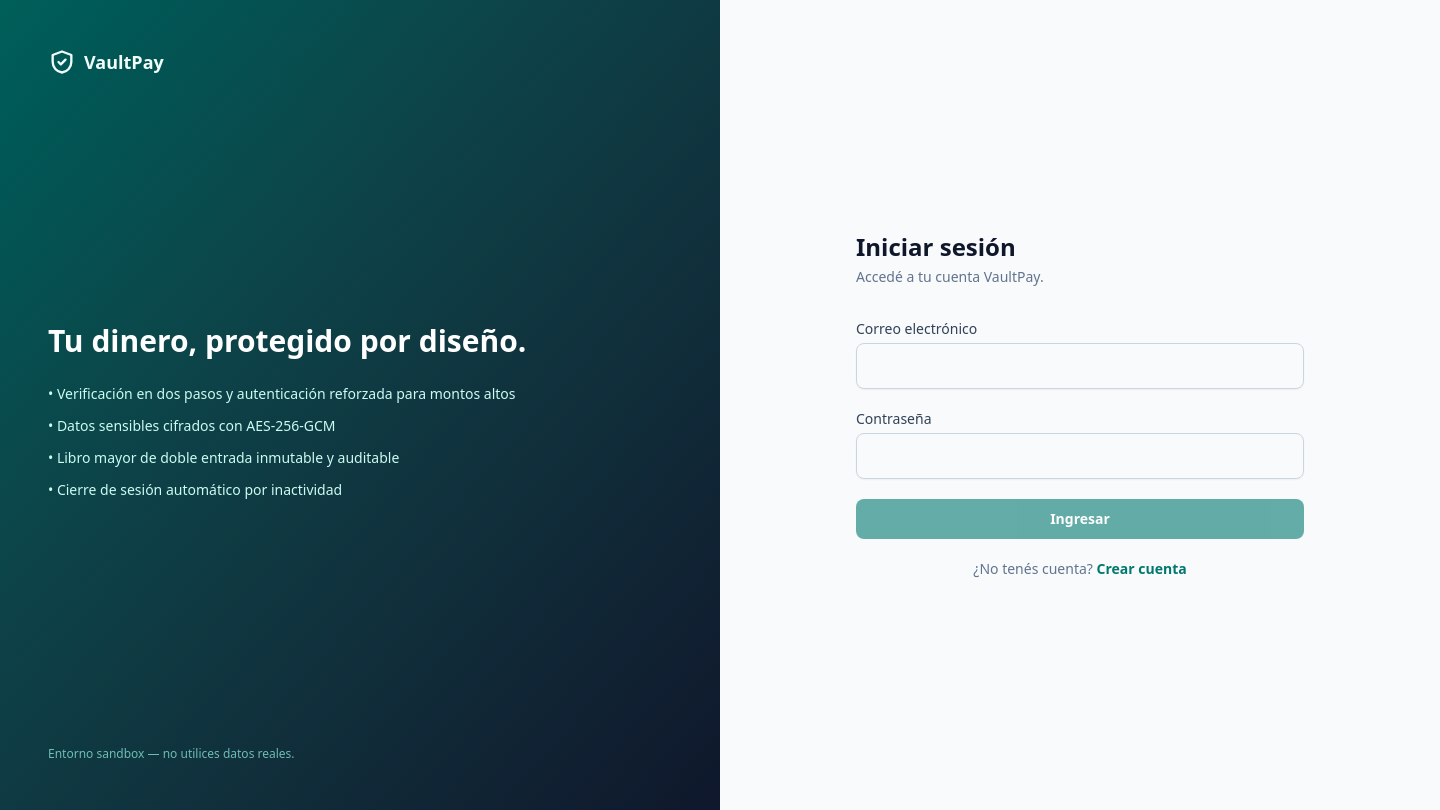
Test case: login flow › shows one generic message for bad credentials
Type "x@y.co" into the field labelled "Correo electrónico" at (1080, 366), box [856,343,1304,389]
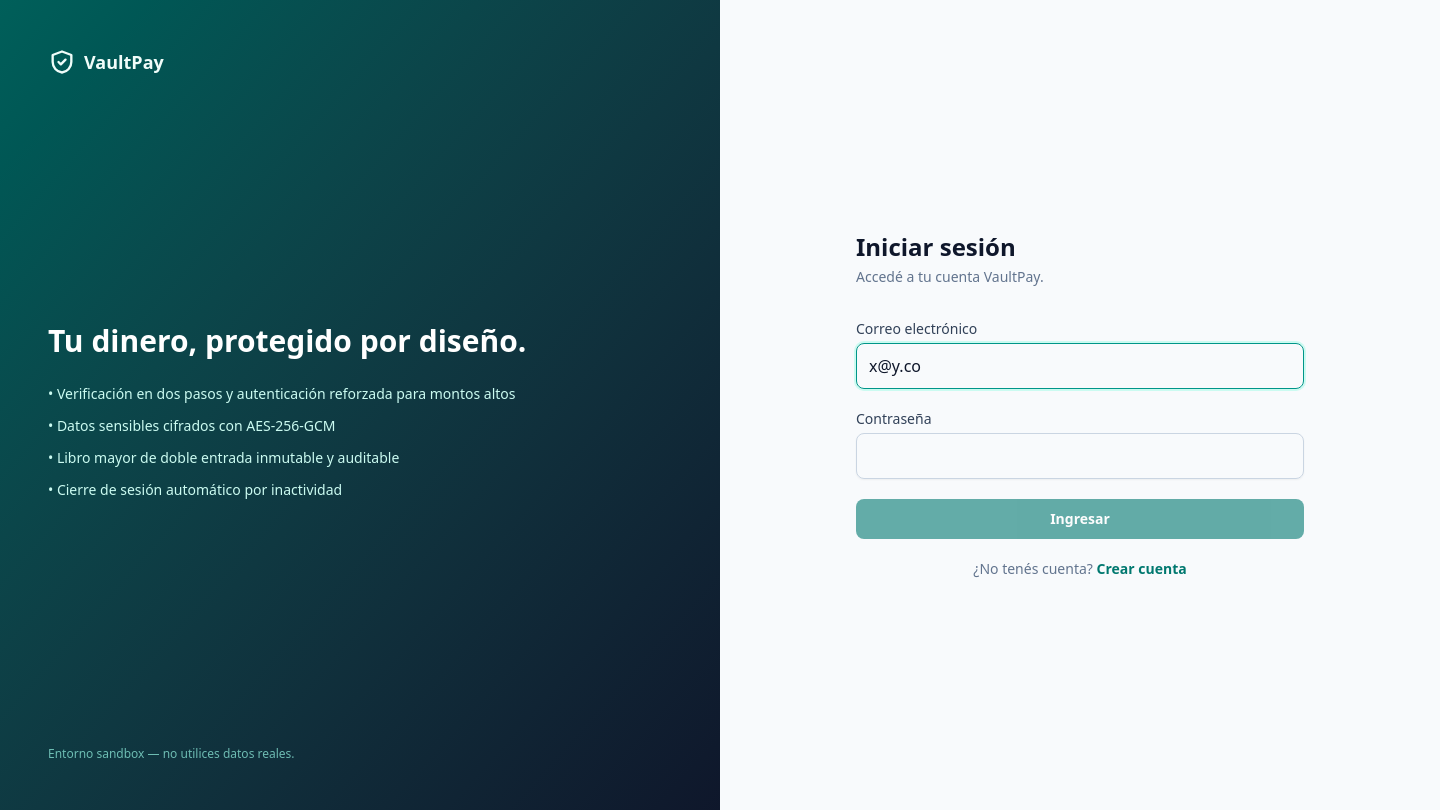
Type "whatever-password" into the password field labelled "Contraseña" at (1080, 456), box [856,433,1304,479]
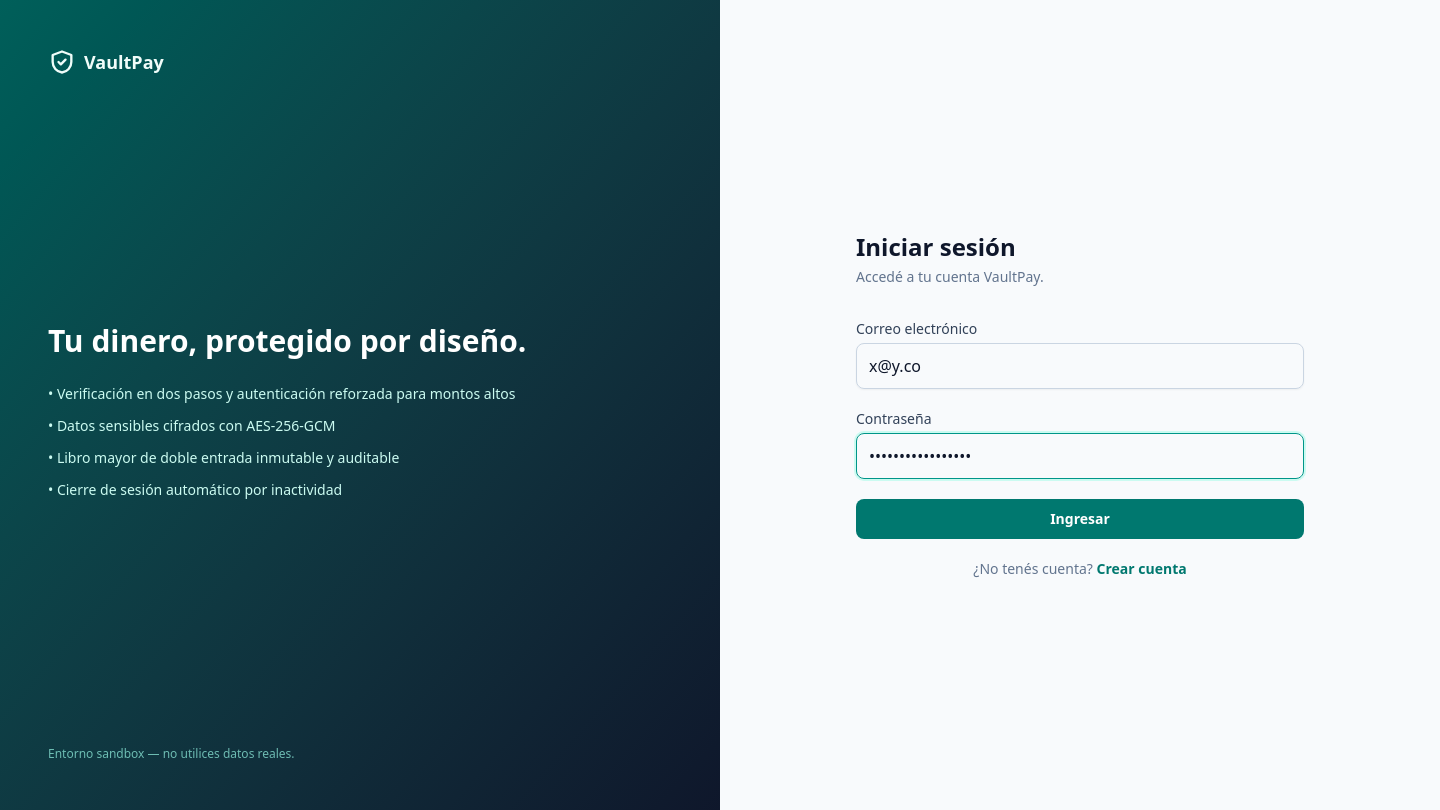
Click the button "Ingresar" at (1080, 519), box [856,499,1304,539]
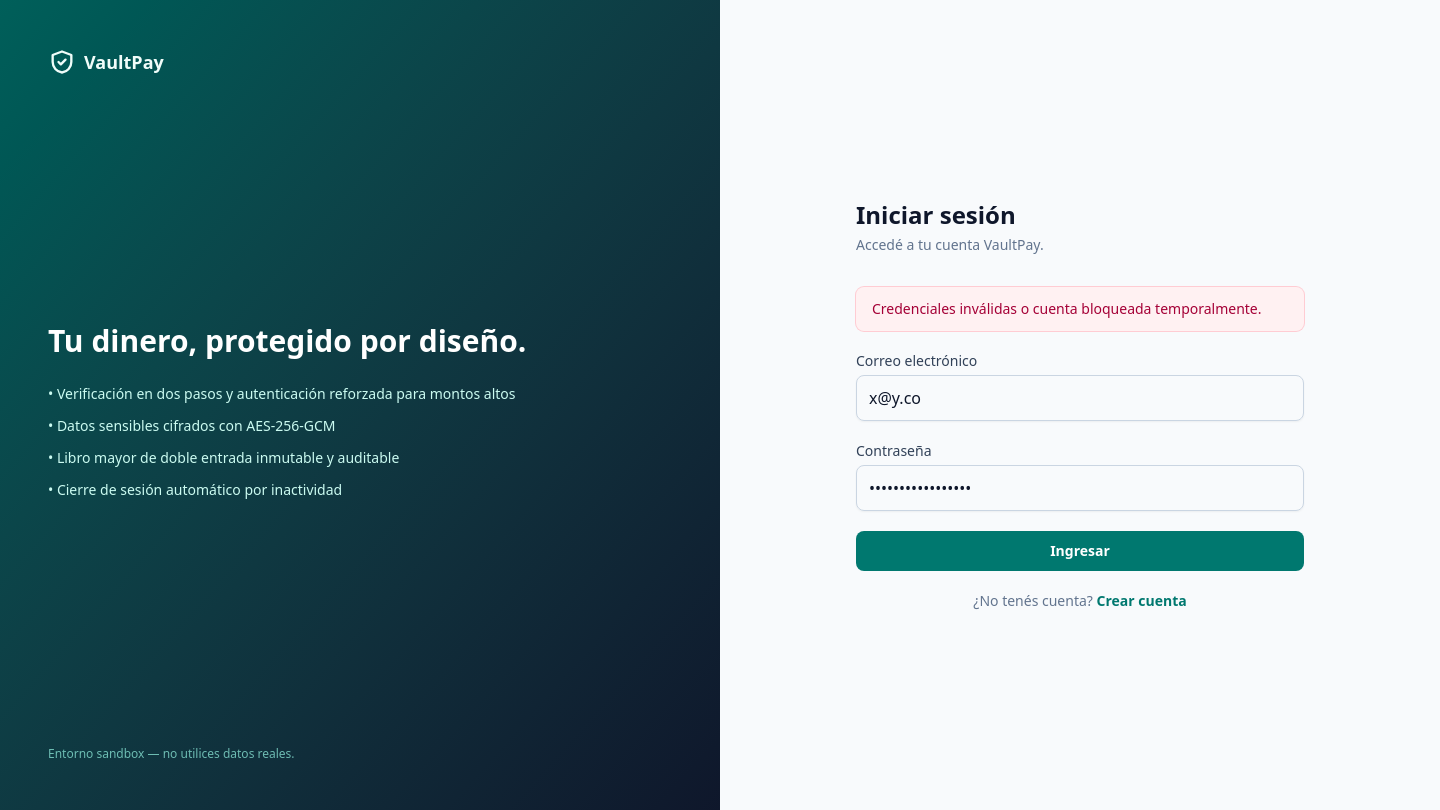
Check: the message reads "Credenciales inválidas o cuenta bloqueada temporalmente.", box [872,299,1262,318]
